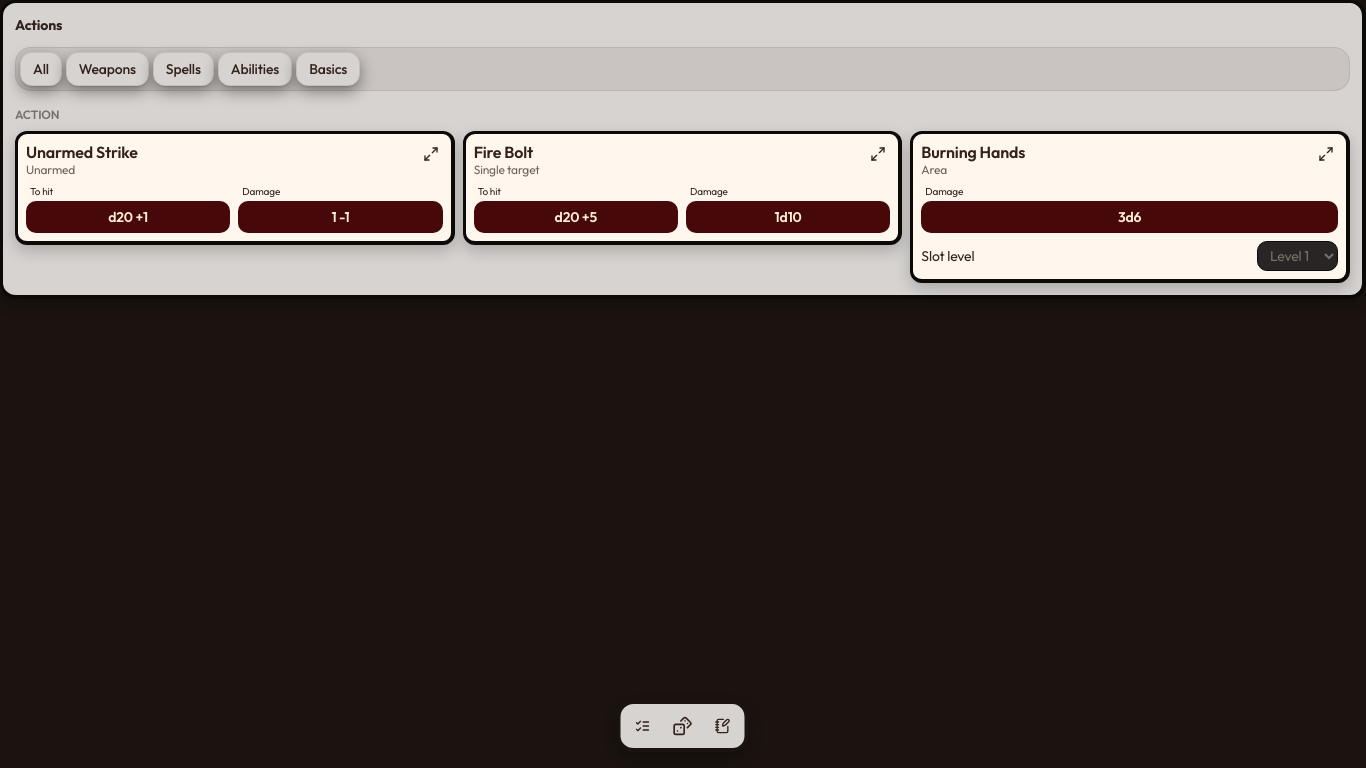
AttacksActionsPanel roll integration › hides spell short descriptions in the list and keeps them in the expanded modal
Expected: the heading "Fire Bolt" is shown, [474, 142, 540, 162]
Expected: the text "ranged spell attack; 1d10 fire damage on hit" is not shown
Click the button named "Expand Fire Bolt" at point(878, 154), box [866, 142, 890, 166]
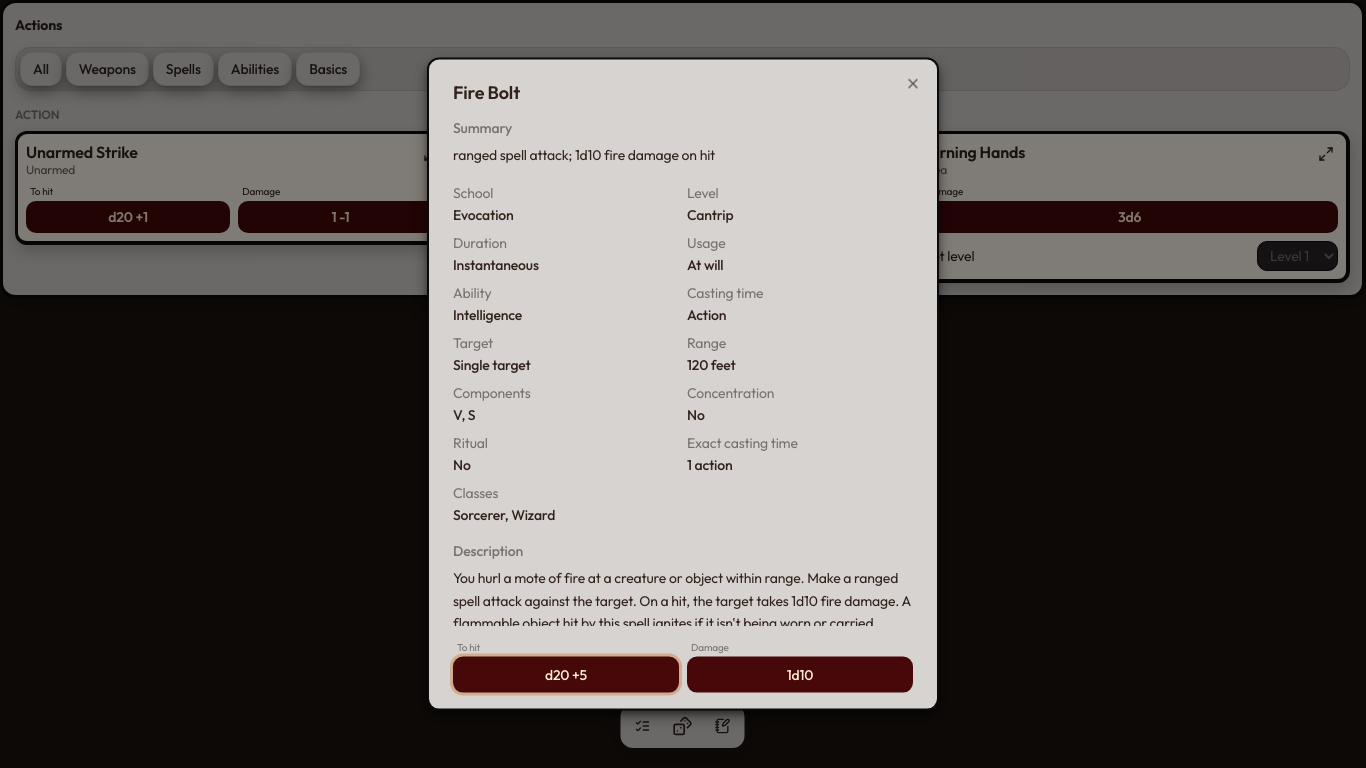
Expected: the text "ranged spell attack; 1d10 fire damage on hit" is shown, [453, 146, 715, 164]
